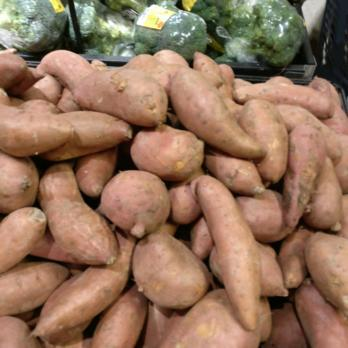Sweet potato: (0, 85, 348, 348), (3, 51, 238, 147)
